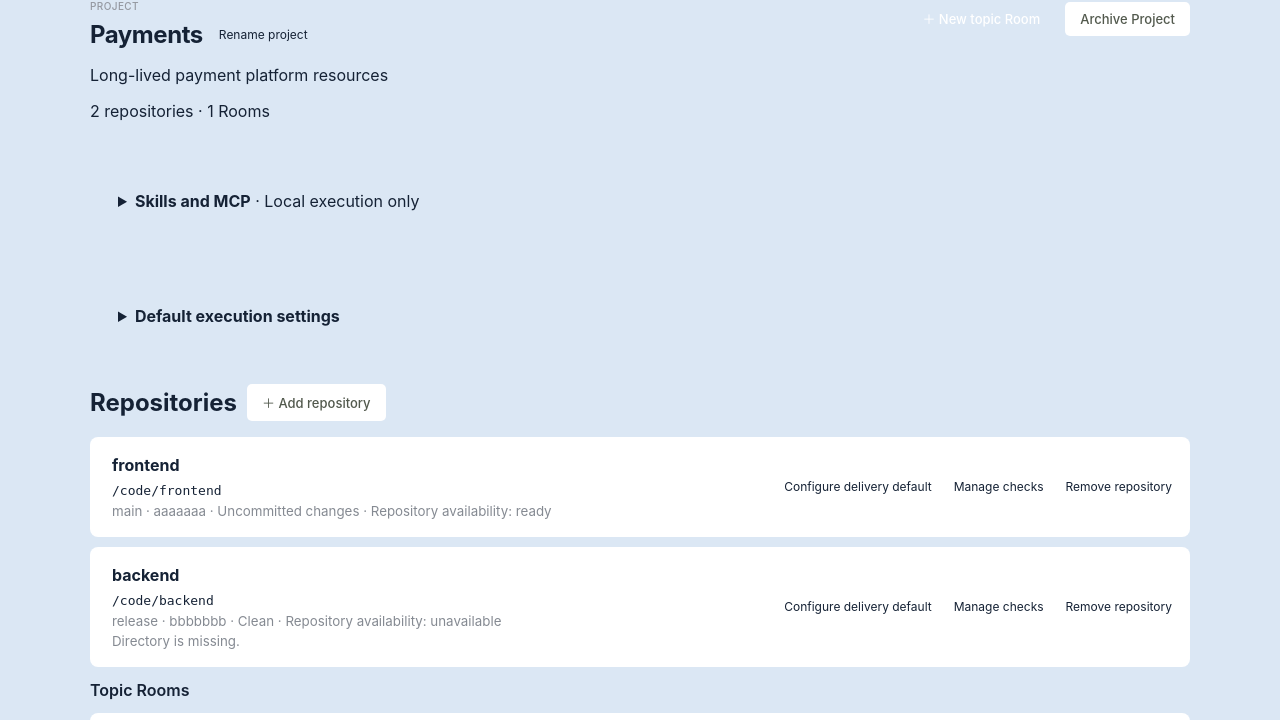
Test: ProjectHome › opens named checks for the selected repository card
This screenshot has width=1280, height=720.
Click the button "Manage checks" in the row of "/code/frontend": (999, 487) [948, 473, 1050, 500]
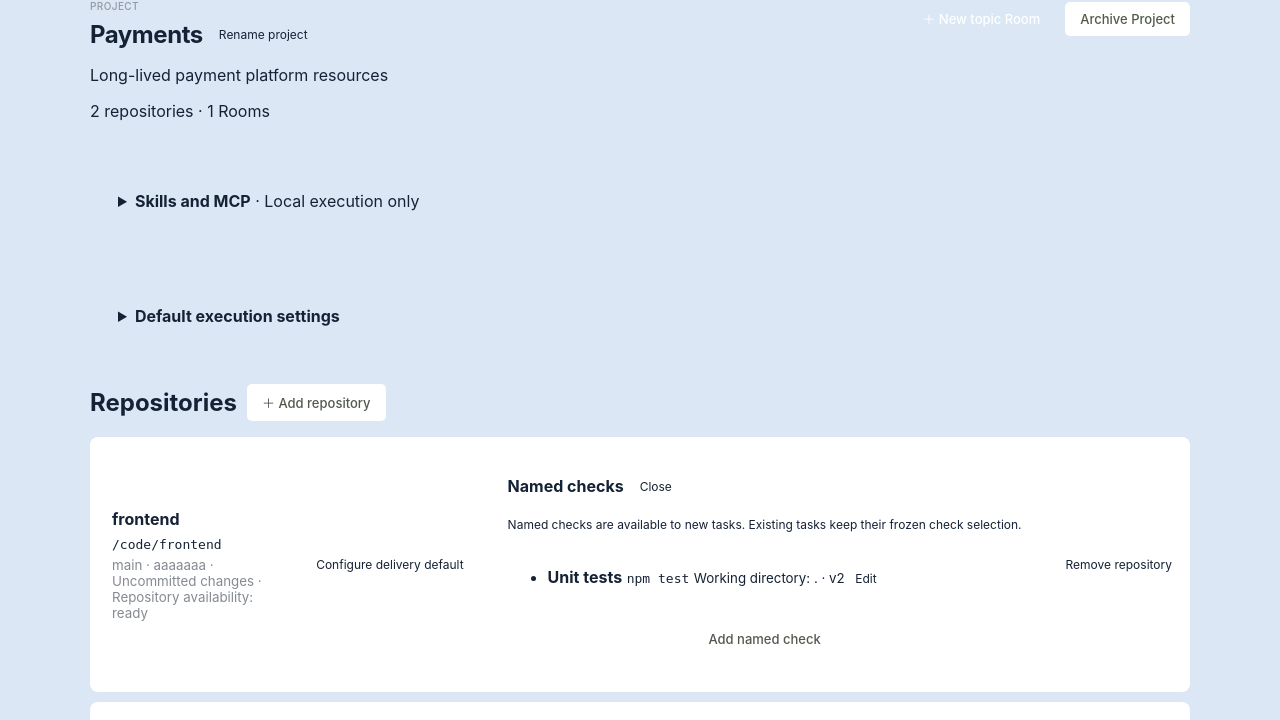
Expected: the dialog named "Named checks for frontend" is shown, [508, 476, 1022, 587]
Expected: the button with aria-label "Edit Unit tests" is shown, [849, 565, 883, 592]
